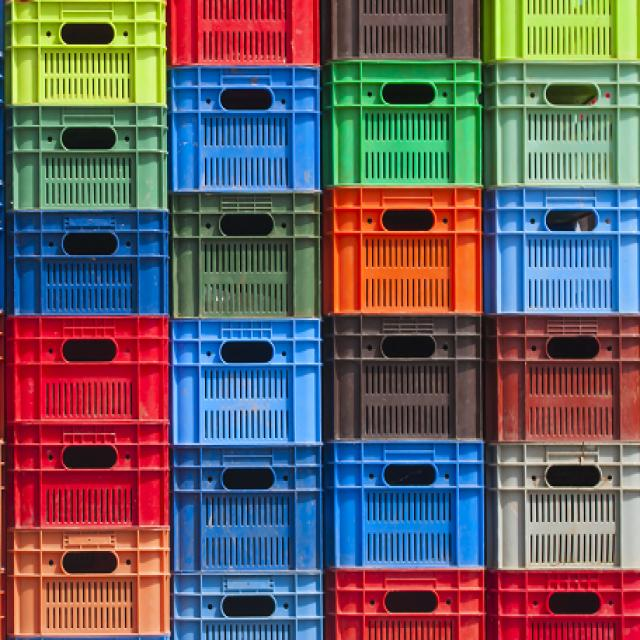basket: (4, 317, 168, 530), (324, 443, 486, 572), (324, 186, 481, 315), (324, 59, 481, 187), (324, 317, 484, 441), (169, 320, 321, 447), (168, 67, 321, 193), (170, 193, 321, 320), (173, 448, 323, 572), (7, 530, 170, 640), (6, 105, 167, 213), (6, 317, 167, 423), (7, 212, 168, 316), (6, 2, 166, 105), (326, 572, 485, 640), (171, 573, 323, 640)
